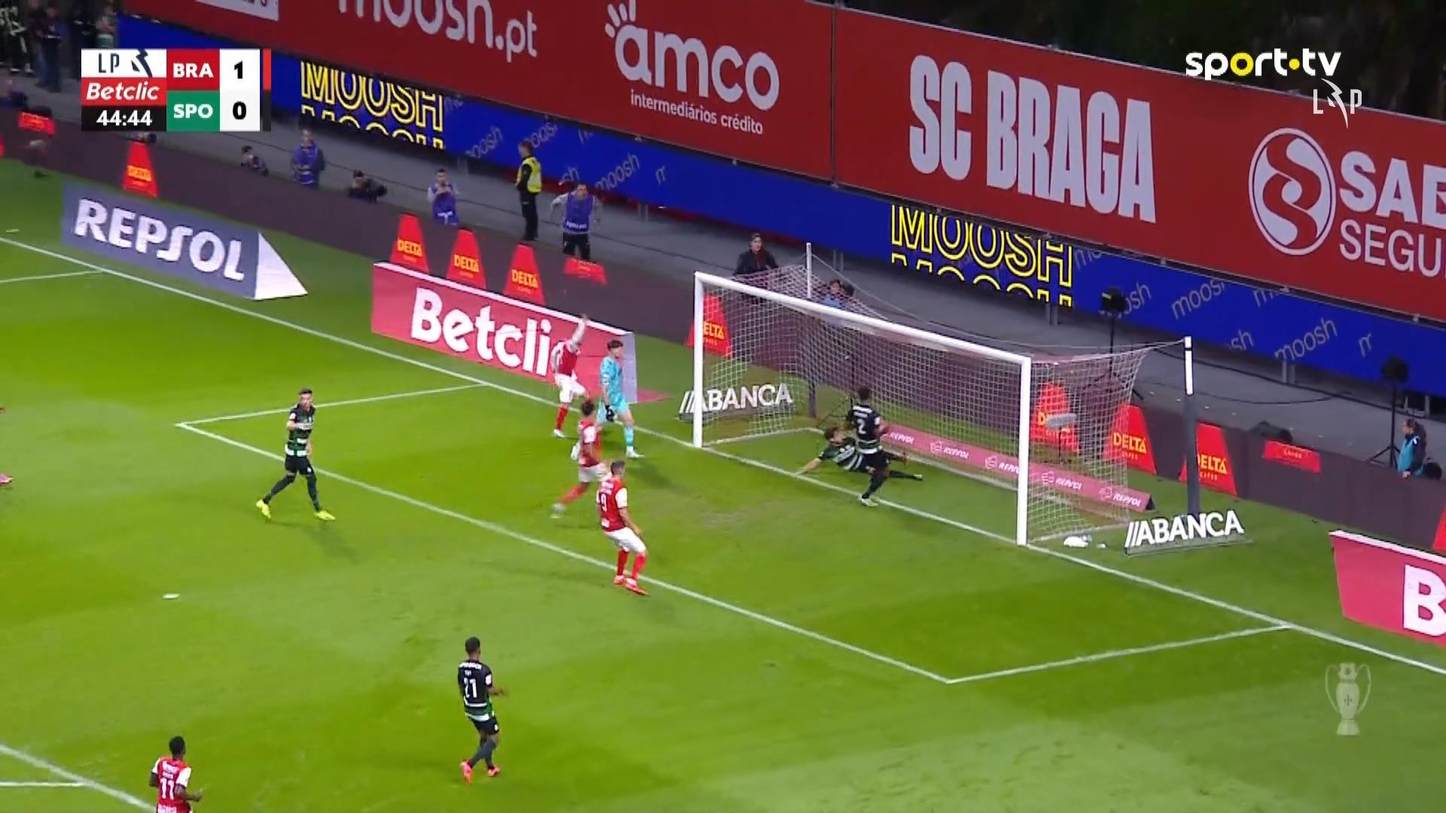ball: (285, 421, 294, 431)
goalkeeper: (596, 337, 644, 458)
player: (254, 387, 336, 522), (841, 384, 908, 507), (456, 635, 508, 783), (549, 398, 612, 519), (595, 459, 648, 595), (794, 424, 909, 478), (546, 313, 590, 439), (147, 734, 204, 811)
